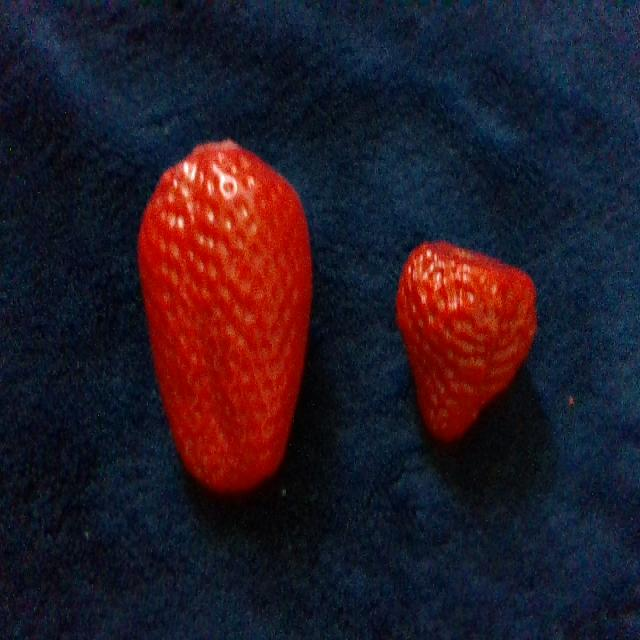chica_roja: (397, 241, 535, 440)
grande_roja: (139, 141, 310, 491)
